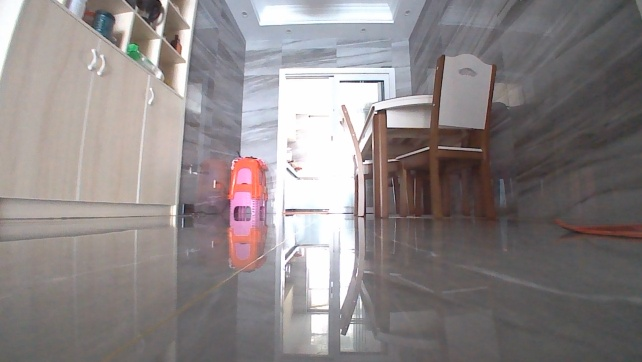blanket: (550, 215, 641, 242)
dining_table: (335, 51, 503, 220)
